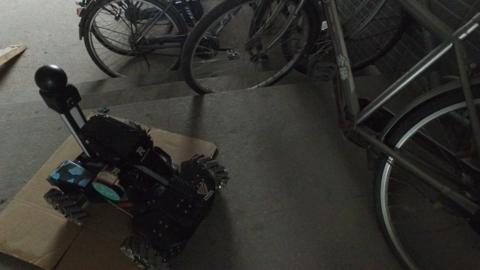chariot: (32, 62, 229, 269)
